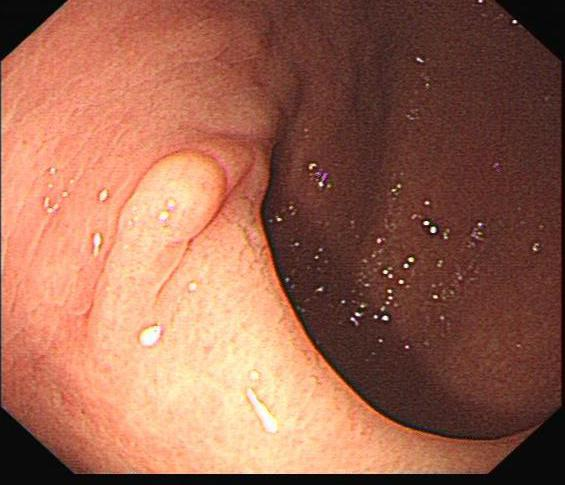Polyp: (77, 107, 257, 387)
